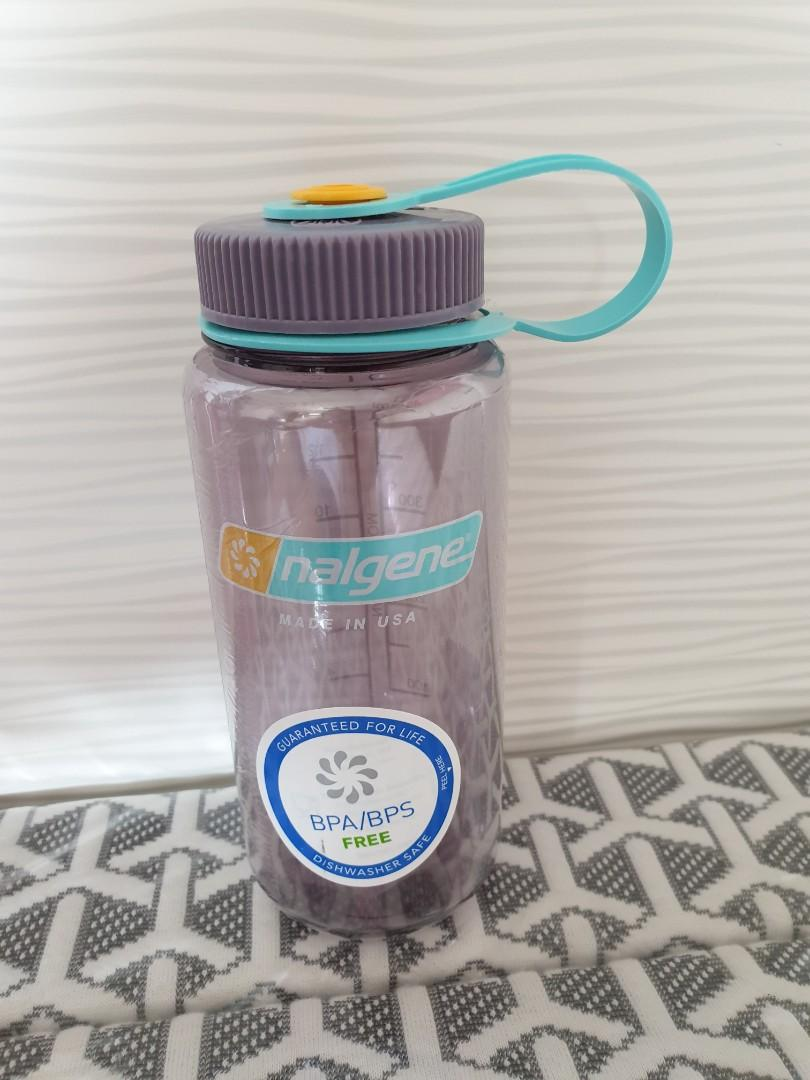bottle: (183, 149, 675, 939)
